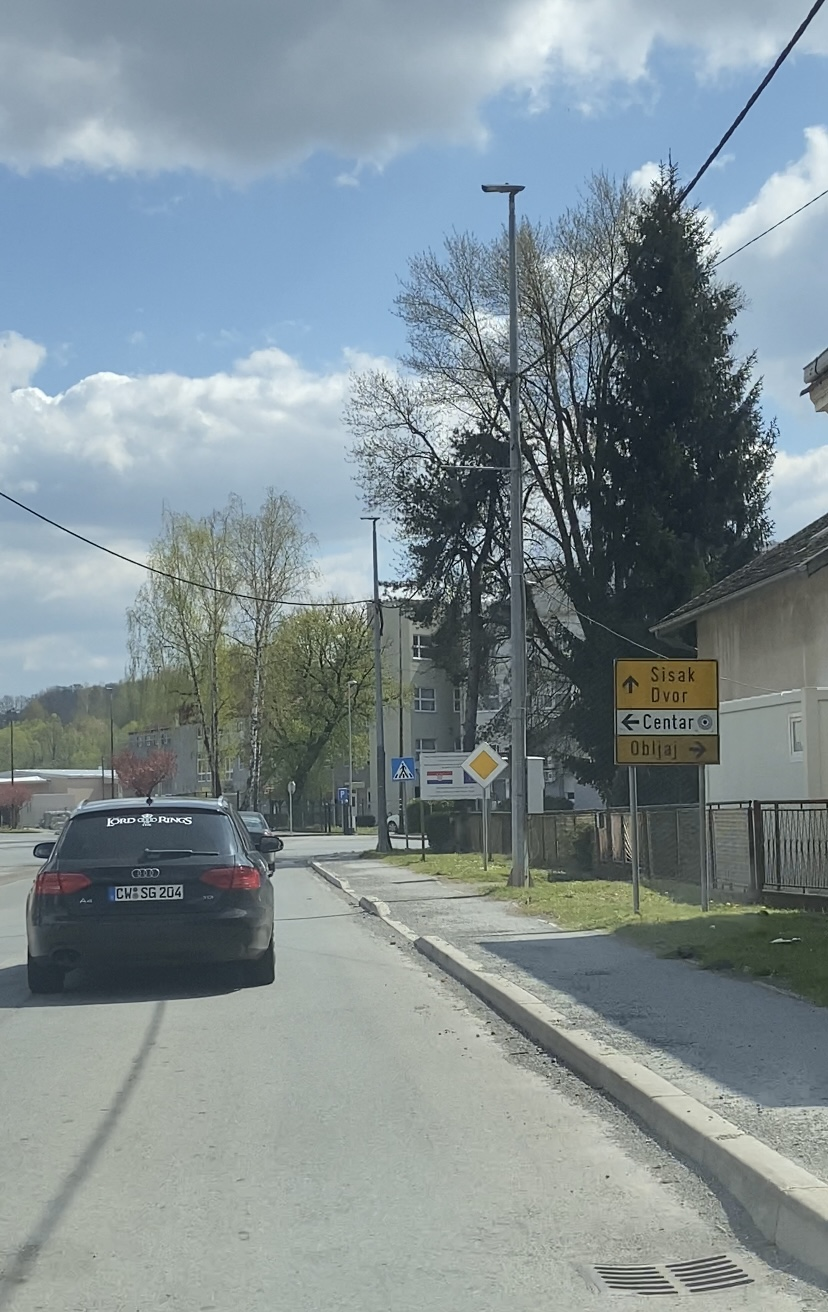Cesta s prednošću prolaska: (461, 741, 508, 789)
Pješački prijelaz: (391, 757, 415, 781)
